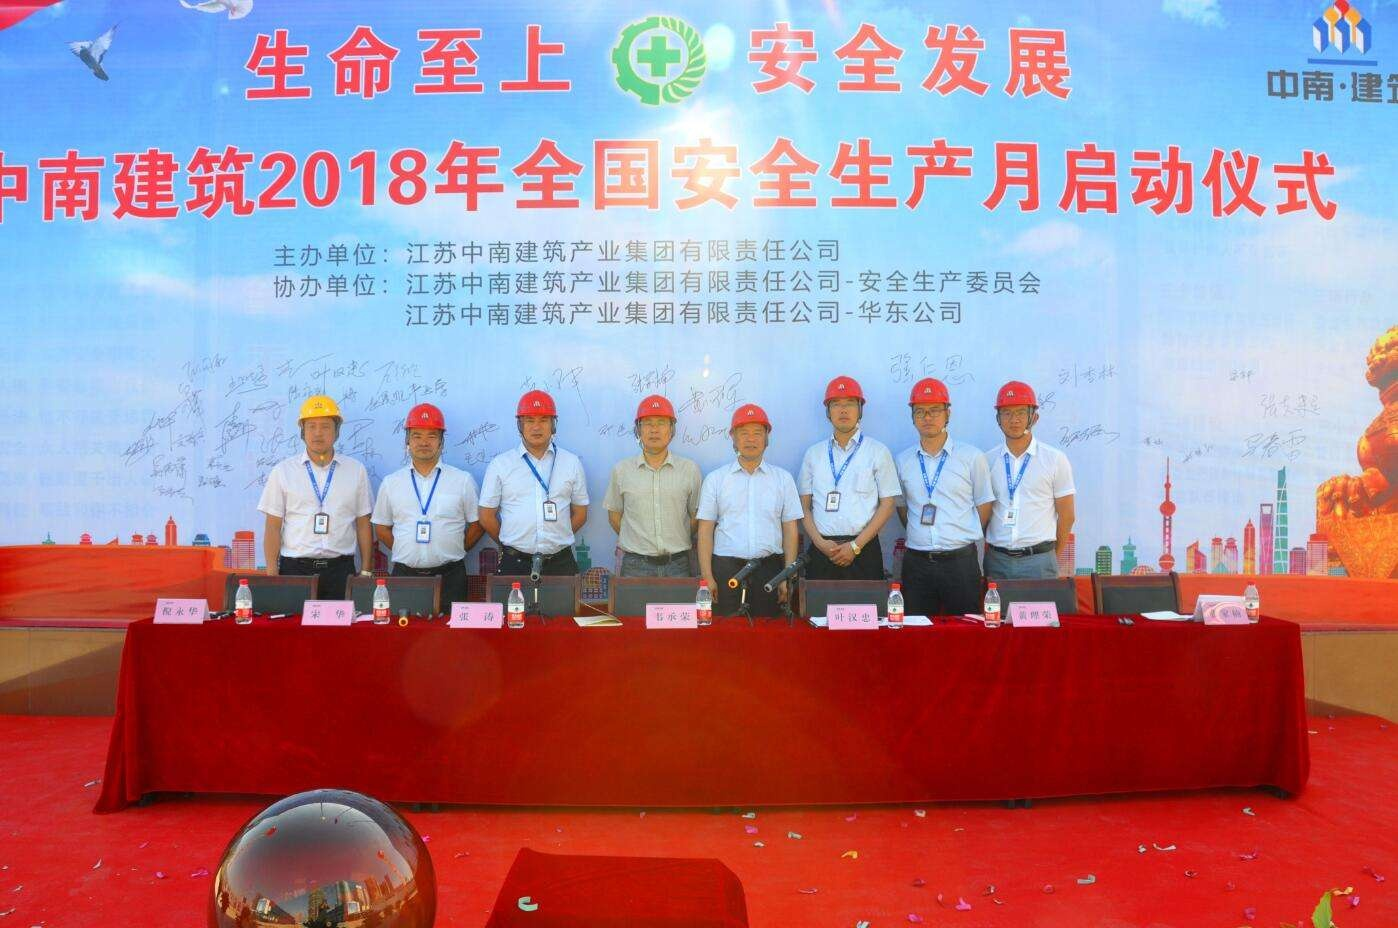red: (397, 401, 448, 472), (630, 392, 680, 462), (990, 376, 1042, 444), (514, 386, 559, 456), (905, 374, 952, 441), (821, 372, 868, 438), (724, 403, 771, 466)
yellow: (296, 392, 344, 464)
